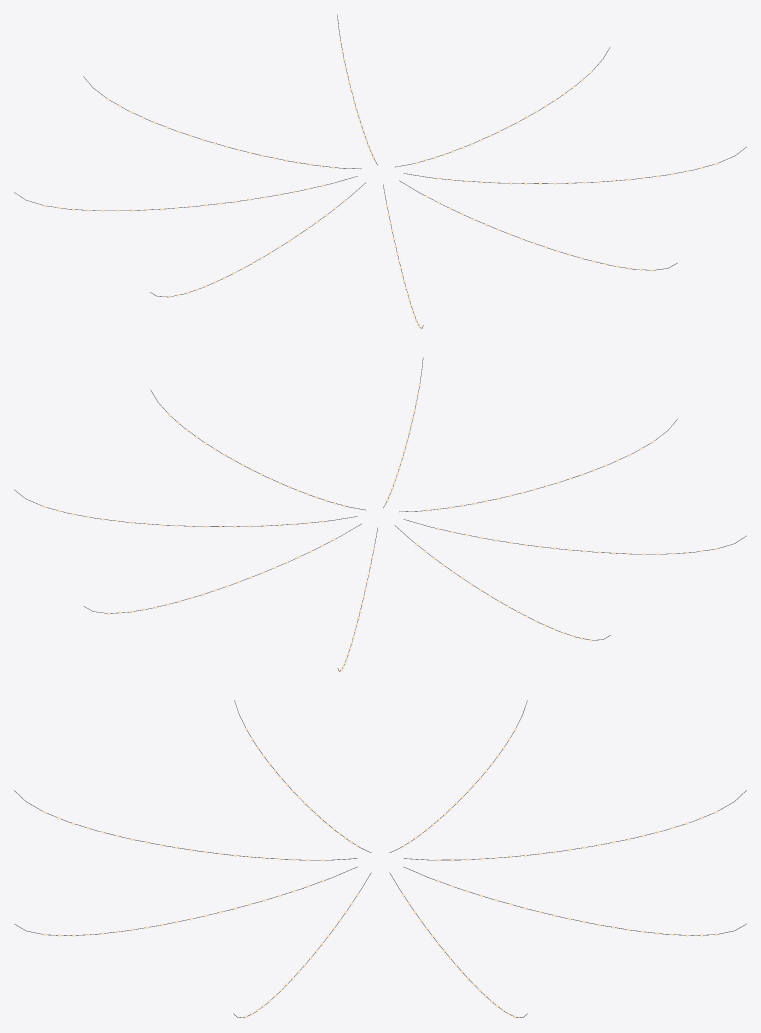
File: tent_lights.glb
3 views of the same model, one above another, from view 1: azimuth 30°, elevation 25°; view 2: azimuth 150°, elevation 25°; view 3: azimuth 270°, elevation 25° (orthographic). The views are drawn at different scales.
Visible parts, largest first — view 1: OverheadWire; view 2: OverheadWire; view 3: OverheadWire.
Boxes of the visible parts, left/top/right/bottom form: OverheadWire: left=14, top=14, right=746, bottom=328; OverheadWire: left=14, top=357, right=746, bottom=671; OverheadWire: left=14, top=700, right=746, bottom=1018.
Bounding box in the file's own units: 32.34 × 1.43 × 31.93.
